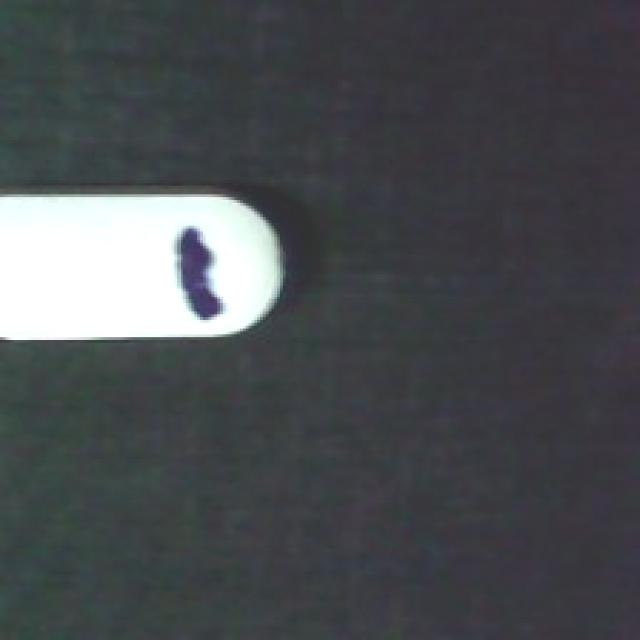defected: (0, 183, 289, 340)
